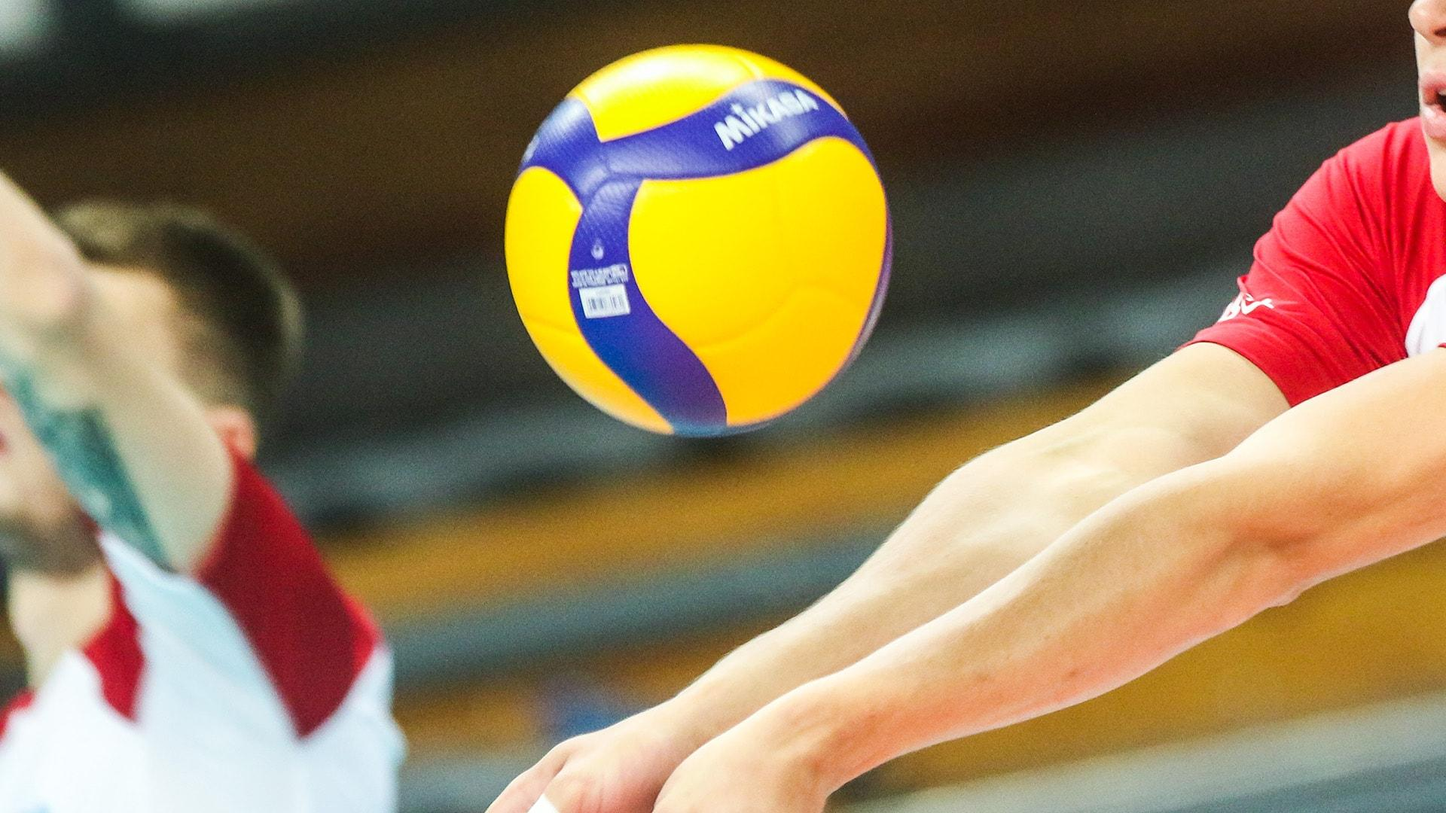ballon_volley: (502, 44, 895, 439)
